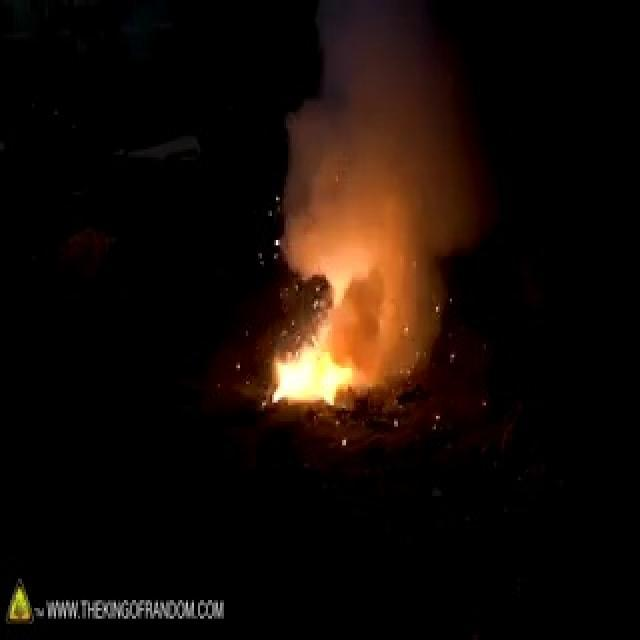fire: (245, 245, 379, 414)
